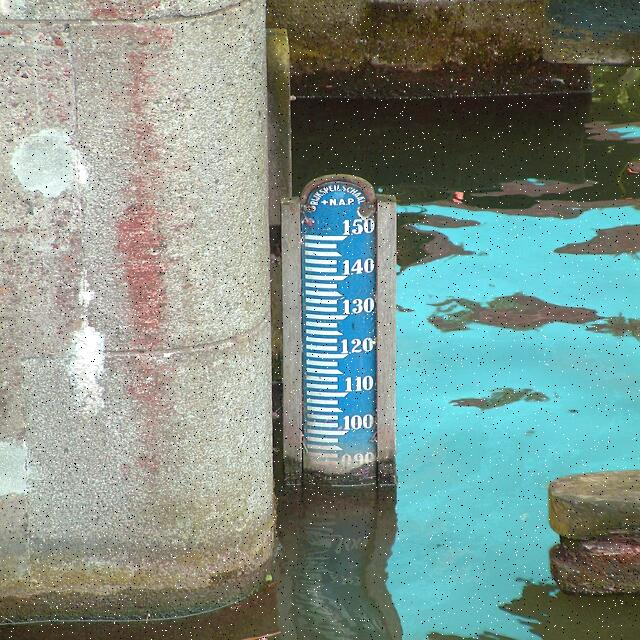staff: (304, 208, 382, 467)
